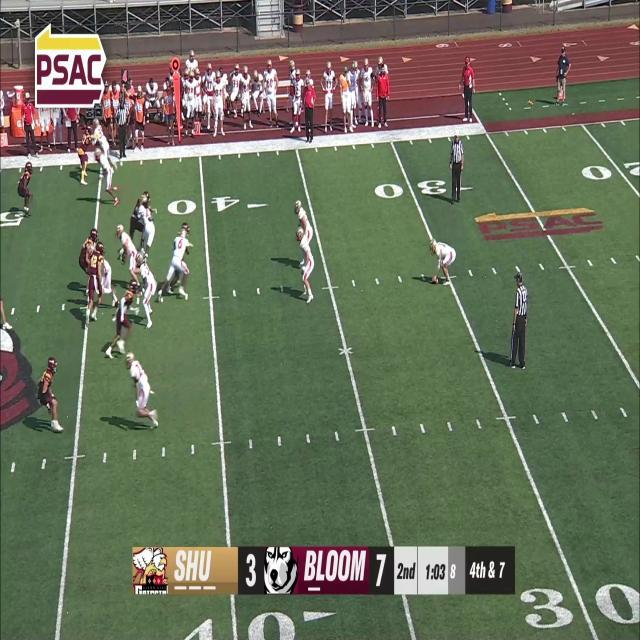football: (432, 276, 438, 284)
